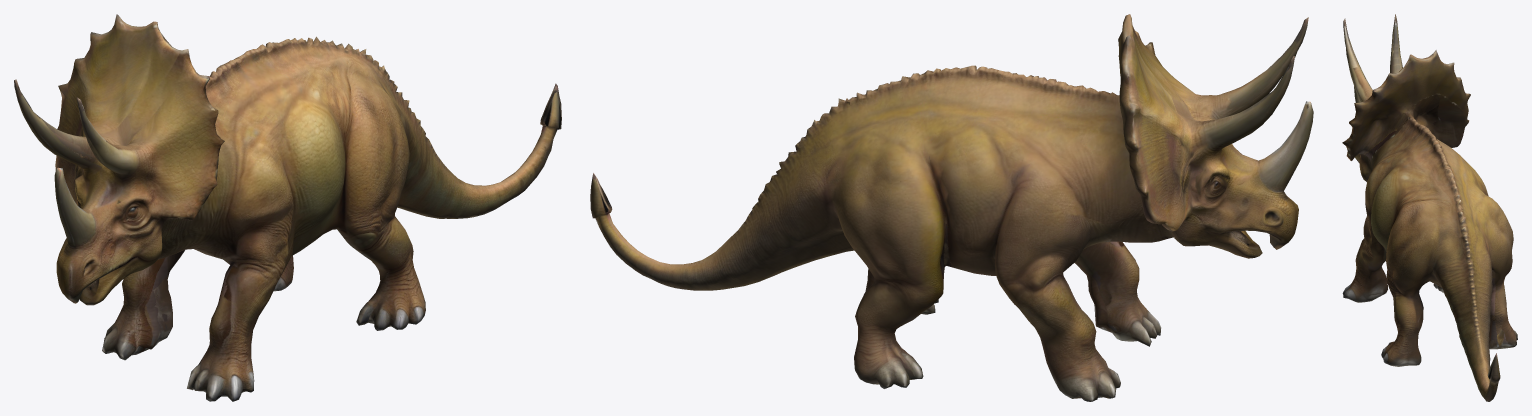
File: trike.glb
The picture shows the model from 3 angles, left to right: view 1: azimuth 30°, elevation 25°; view 2: azimuth 150°, elevation 25°; view 3: azimuth 270°, elevation 25°; orthographic projection. The views are drawn at different scales.
Bounding box in the file's own units: 2 × 1.09 × 0.7381.
1 material, 1 textured.
